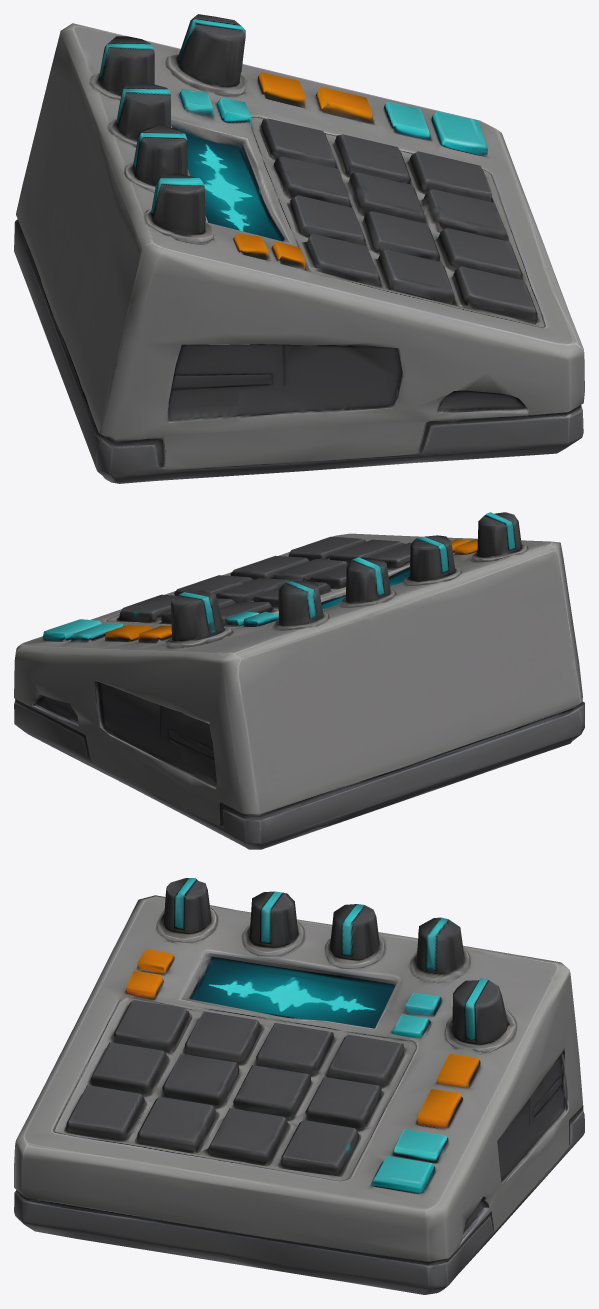
The model's file is sampler.glb.
The picture shows the model from 3 angles, top to bottom: view 1: azimuth 30°, elevation 25°; view 2: azimuth 150°, elevation 25°; view 3: azimuth 270°, elevation 25°; orthographic projection. The views are drawn at different scales.
Parts seen in each view (by area): view 1: tripo_node_e449cc26-aec6-4d23-baca-4f766a4061ff; view 2: tripo_node_e449cc26-aec6-4d23-baca-4f766a4061ff; view 3: tripo_node_e449cc26-aec6-4d23-baca-4f766a4061ff.
Part boxes in pixels (bbox=[...]): tripo_node_e449cc26-aec6-4d23-baca-4f766a4061ff: bbox=[14, 14, 584, 483]; tripo_node_e449cc26-aec6-4d23-baca-4f766a4061ff: bbox=[14, 512, 584, 849]; tripo_node_e449cc26-aec6-4d23-baca-4f766a4061ff: bbox=[14, 878, 584, 1294].
Size of the model in its own units: 1.15 by 0.5393 by 1.22.
1 material, 1 textured.
